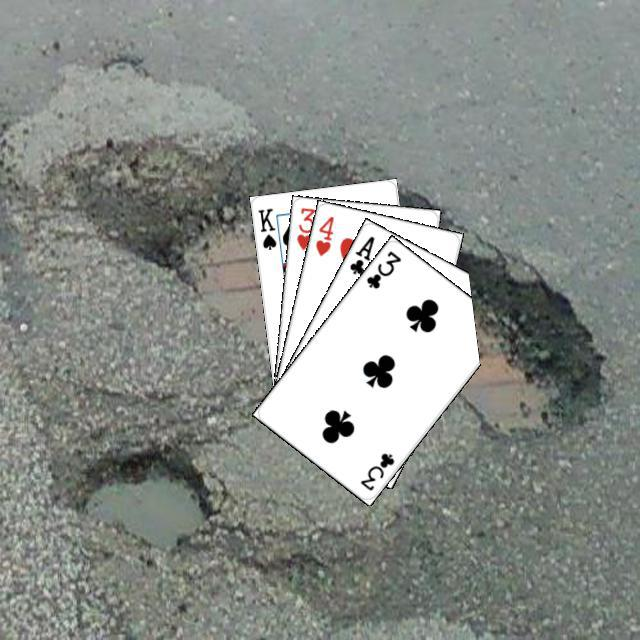3c: (361, 246, 403, 290), (355, 448, 396, 492)
3h: (292, 202, 317, 252)
4h: (310, 211, 336, 258)
Ac: (344, 231, 377, 276)
Ks: (253, 203, 278, 252)
